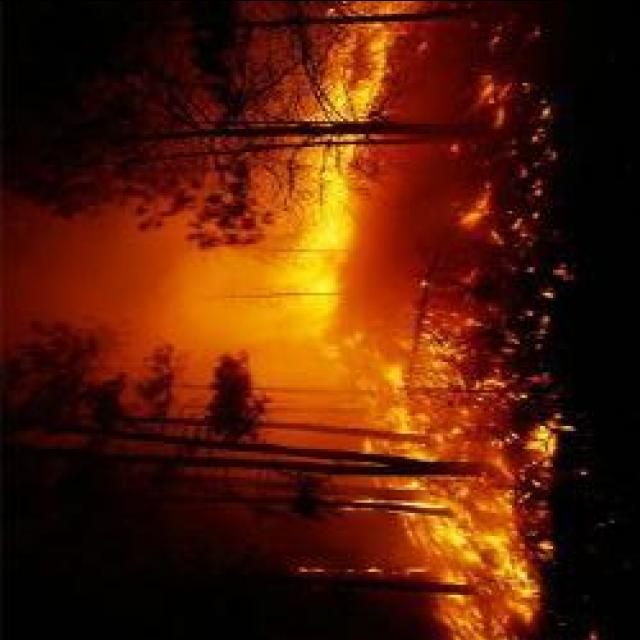fire: (410, 493, 540, 640), (370, 360, 442, 460), (298, 193, 352, 312), (326, 40, 392, 120)
smoke: (177, 272, 316, 366)
